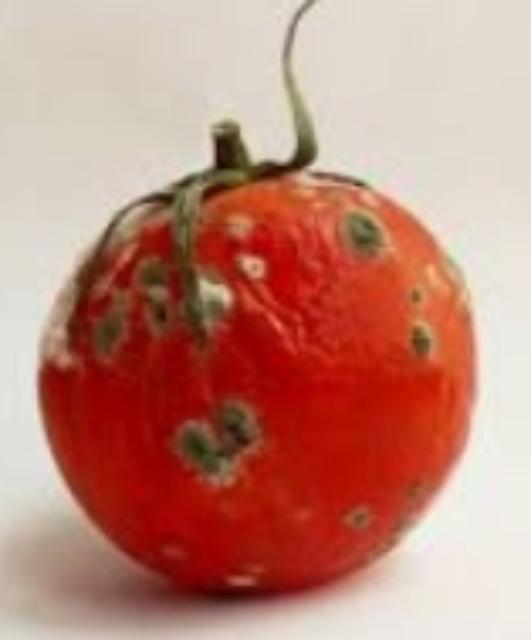defect: (36, 158, 490, 607)
